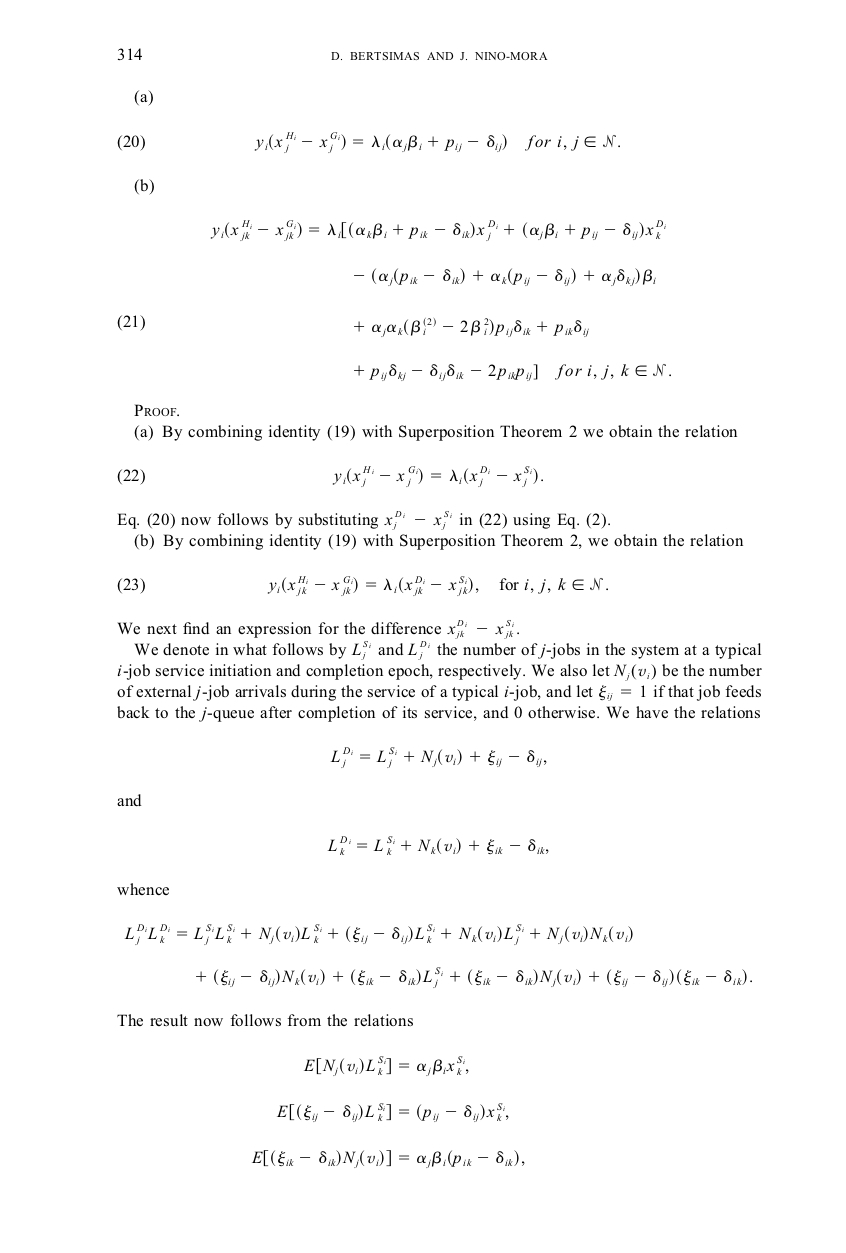formula: (196, 966, 751, 988), (124, 922, 632, 945), (117, 131, 619, 153), (117, 314, 588, 337), (117, 575, 607, 596), (210, 219, 665, 241), (117, 465, 542, 487), (354, 362, 670, 381), (354, 267, 655, 286), (251, 1148, 524, 1168), (330, 745, 546, 768), (276, 1102, 508, 1122), (327, 835, 548, 855), (303, 1055, 468, 1076)
